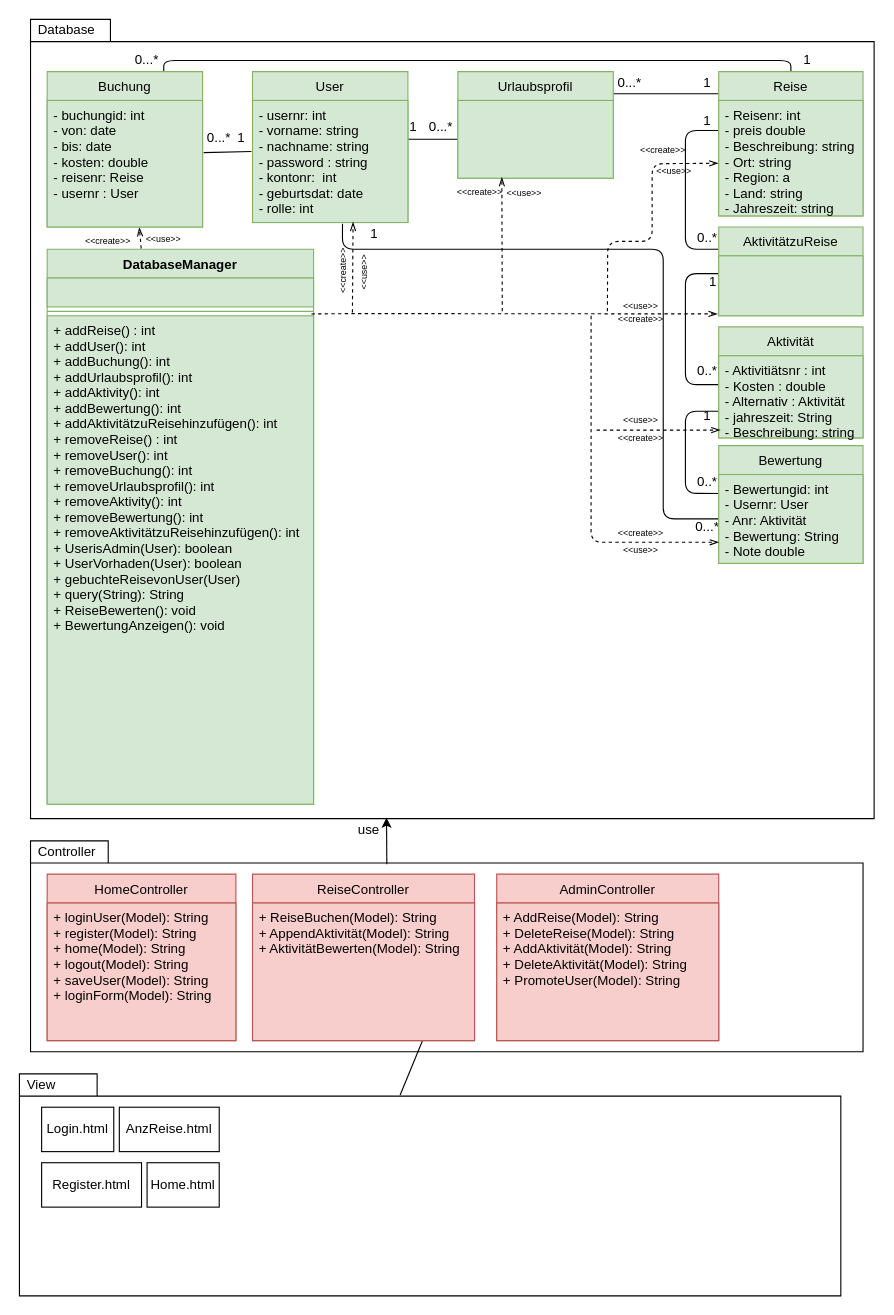
Some shapes in this 894 by 1315 pixel diagram are drawn without their labels. The shapes that lost their labels are listed below. From the top down, each one's centre as x and y in pixels, then its label:
At pixel 535 138: "+ ProfilNr: int - UserNr: User - ReiseNr: Reise - name String".
At pixel 180 292: "- sf: SessionFactory".
At pixel 790 285: "+ MNnr: int + Anr: Aktivität + Reisenr: Reise".
